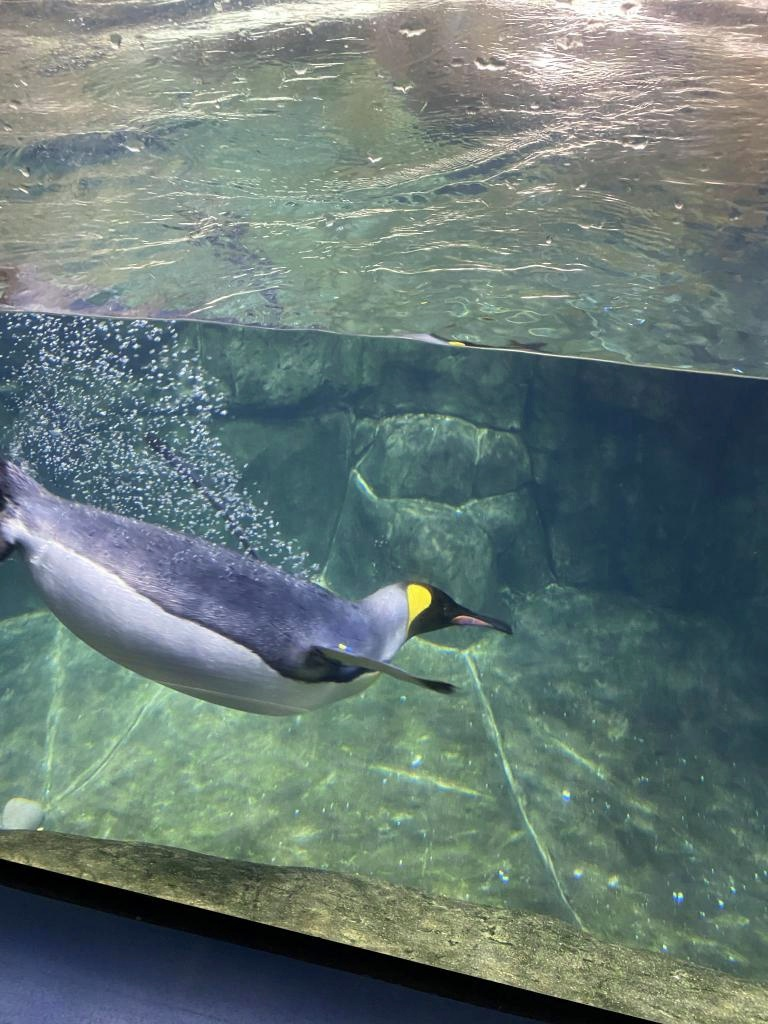penguin: (0, 461, 512, 719)
